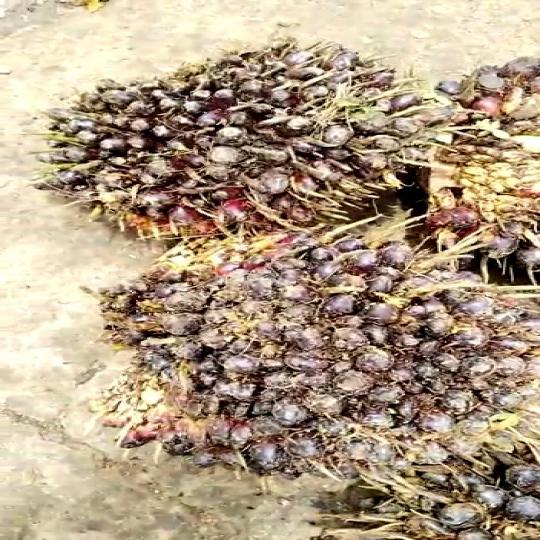mentah: (89, 241, 536, 484), (32, 23, 426, 250)
